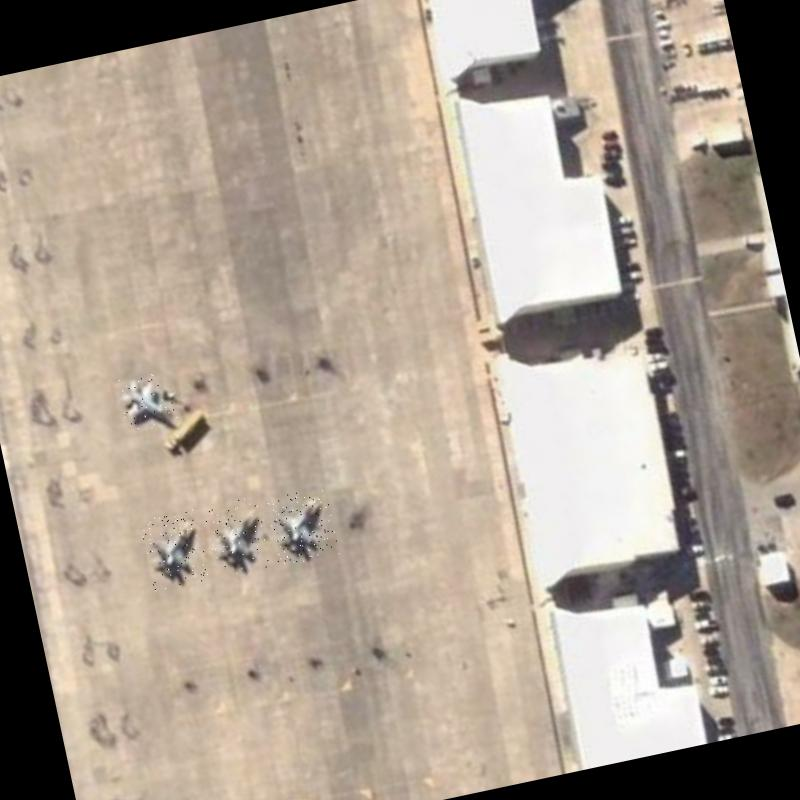A16: (138, 508, 212, 592), (264, 486, 340, 566), (203, 496, 272, 581), (114, 366, 180, 435)
